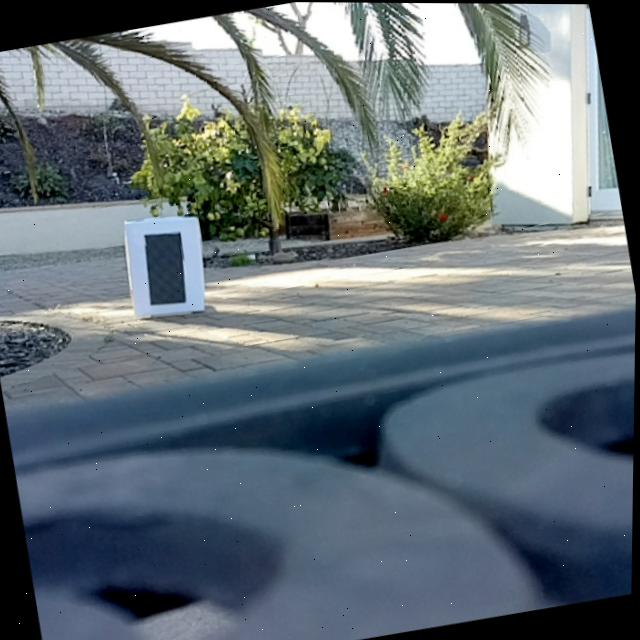led: (140, 228, 193, 308)
